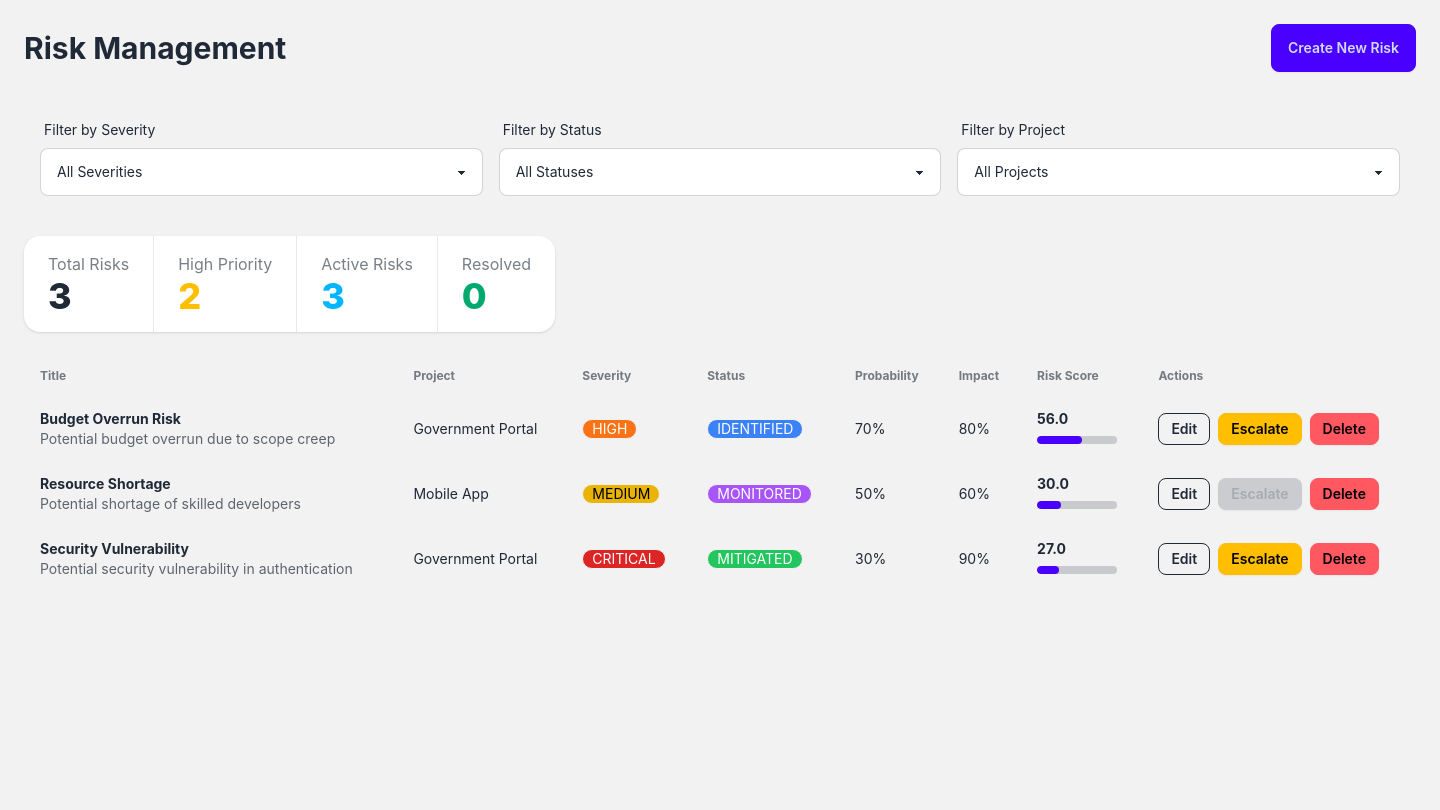
Test: RiskManagement Component › opens edit modal when edit button is clicked
Click the button "Edit" in the row of "Budget Overrun Risk": (1184, 429) [1158,413,1210,445]
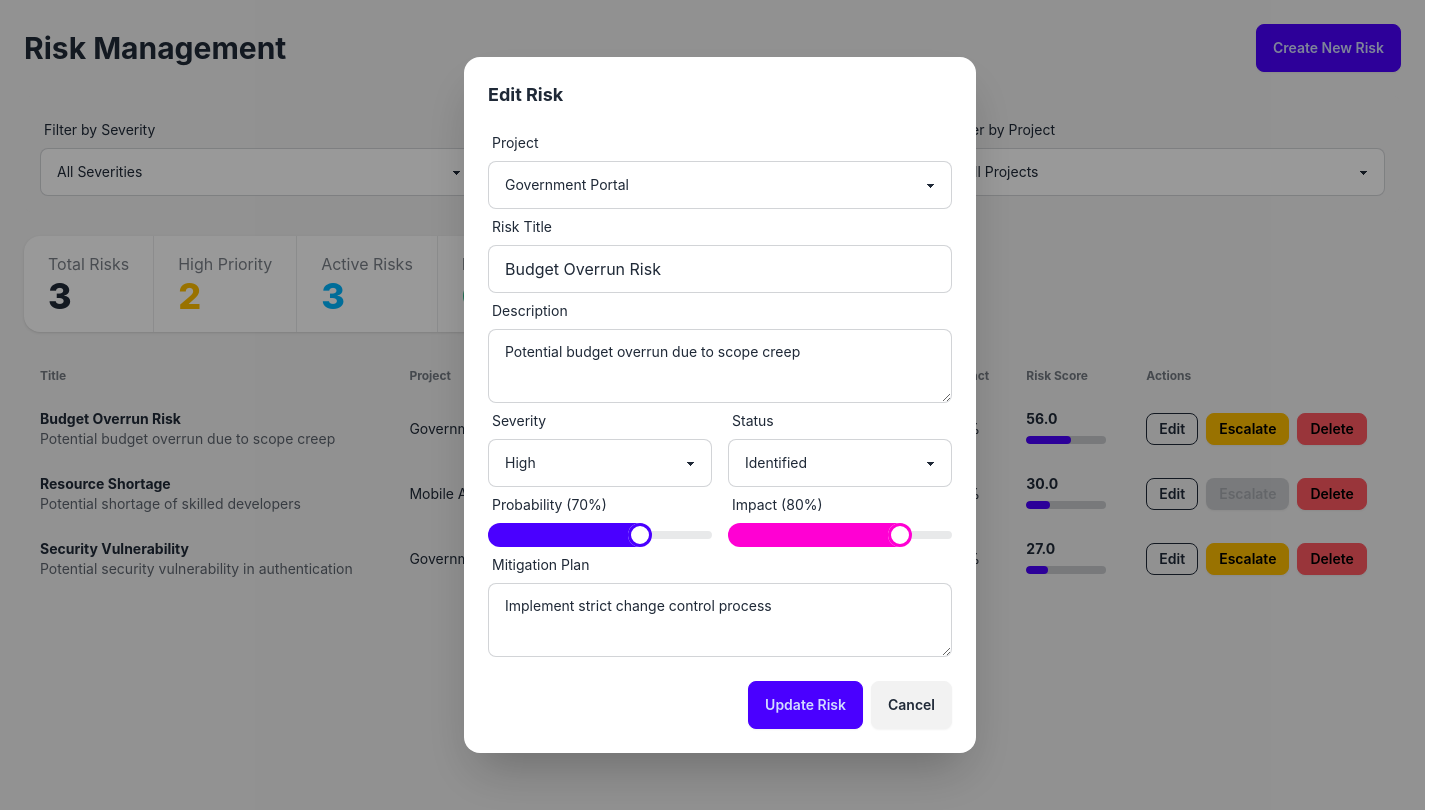
Now the heading "Edit Risk" is shown, box [488,84,563,105]
Now the field showing "Budget Overrun Risk" is shown, box [488,245,952,293]
